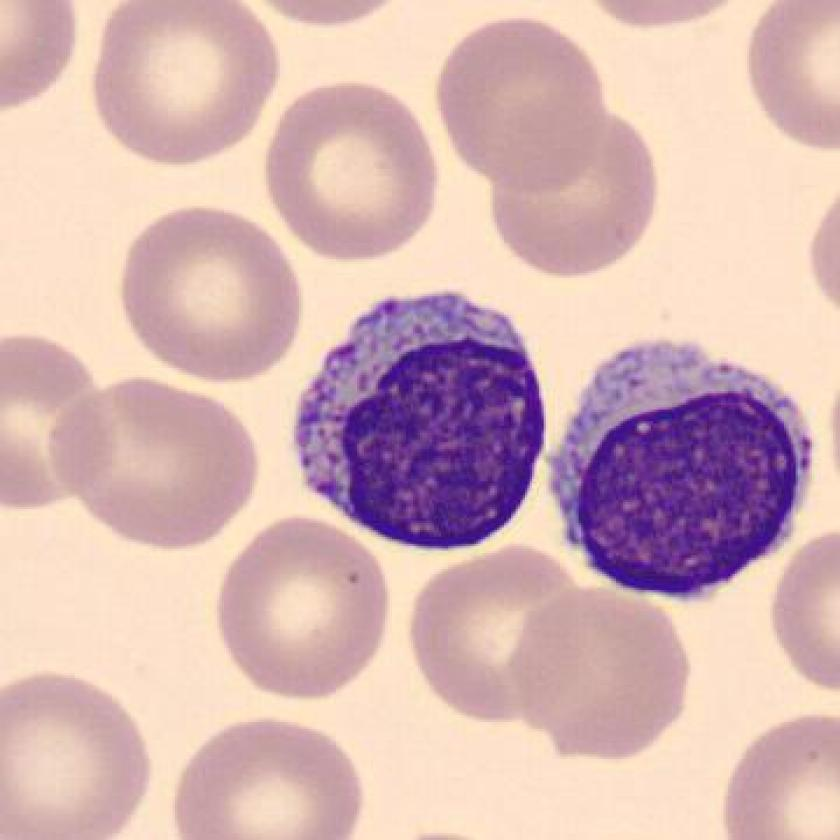lymphocyte: (283, 281, 554, 575)
